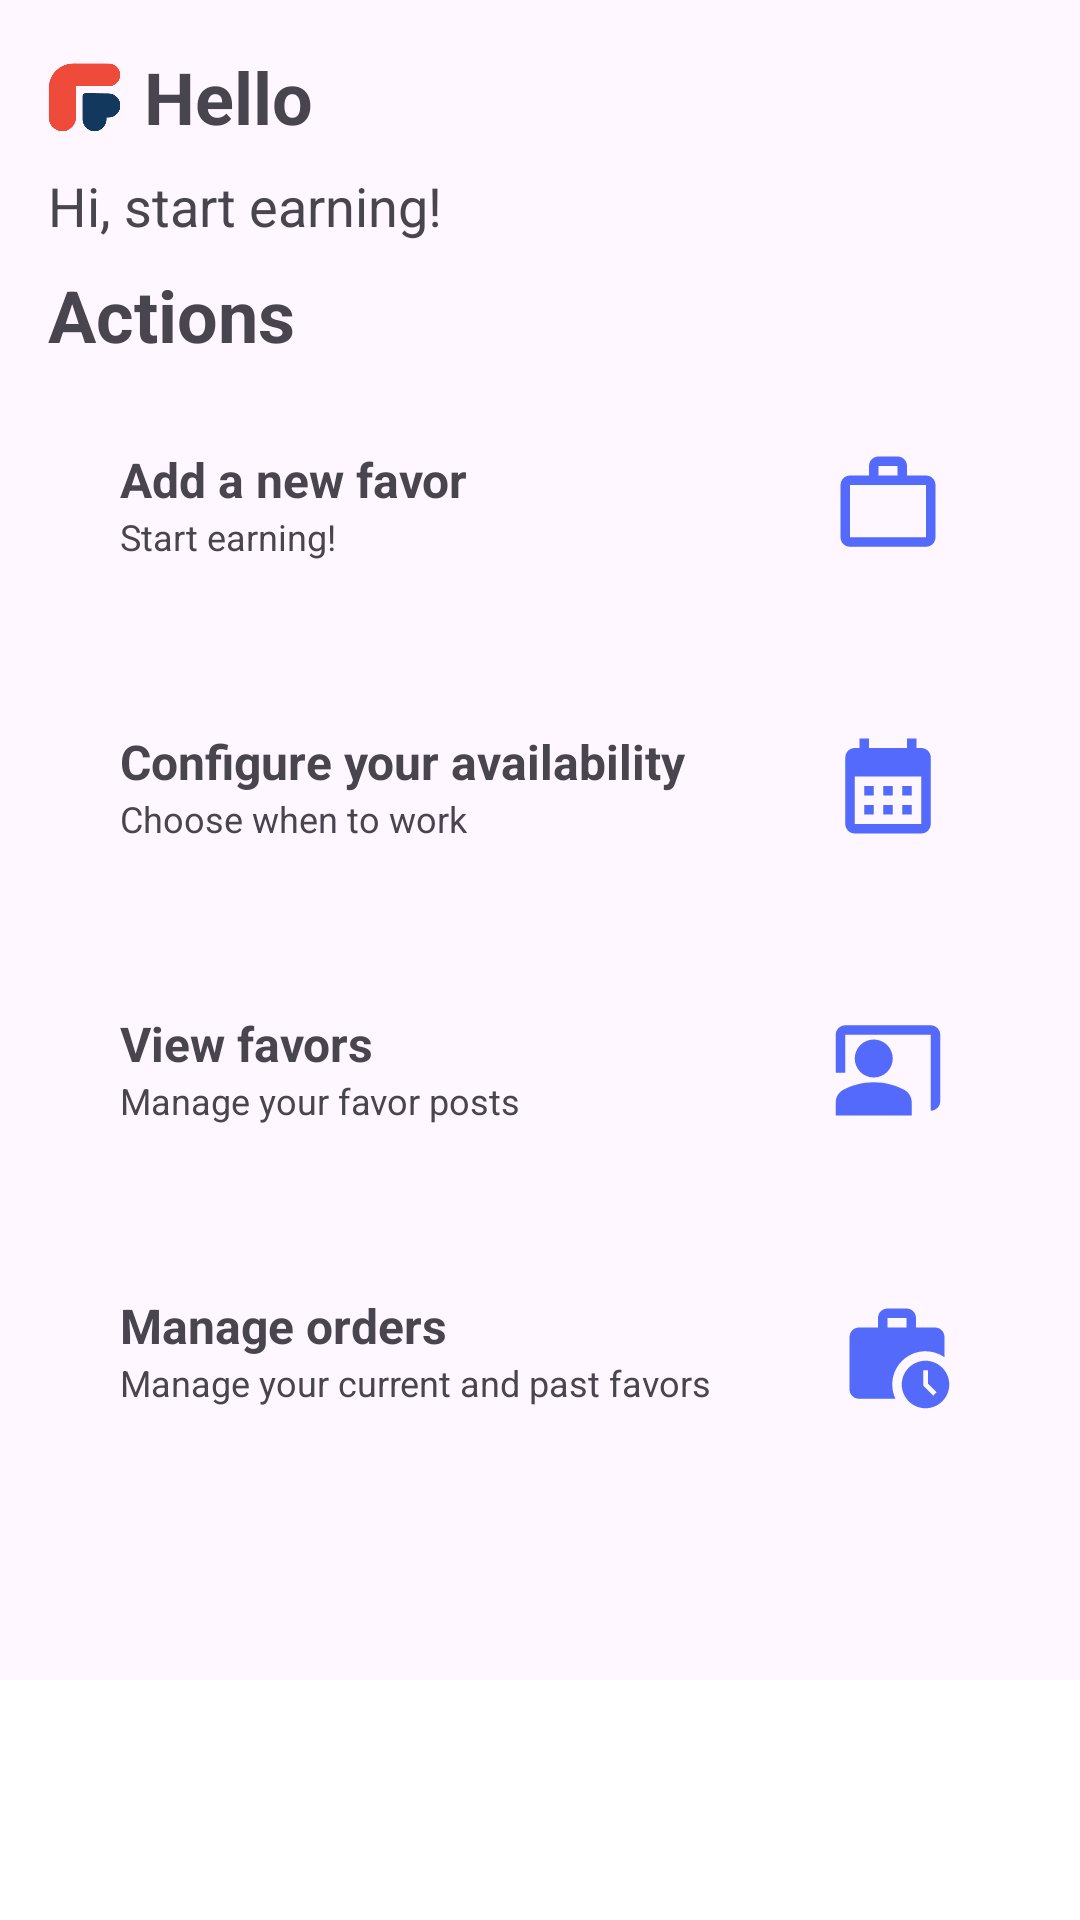

Named icons in this screenshot (1080w x 1920h) and their bounding boxes, (left=x1, top=y1, right=x2, bottom=y2):
calendar month: (left=845, top=738, right=931, bottom=834)
co present: (left=835, top=1025, right=941, bottom=1116)
manage contracts: (left=849, top=1308, right=950, bottom=1409)
work: (left=840, top=456, right=936, bottom=547)
